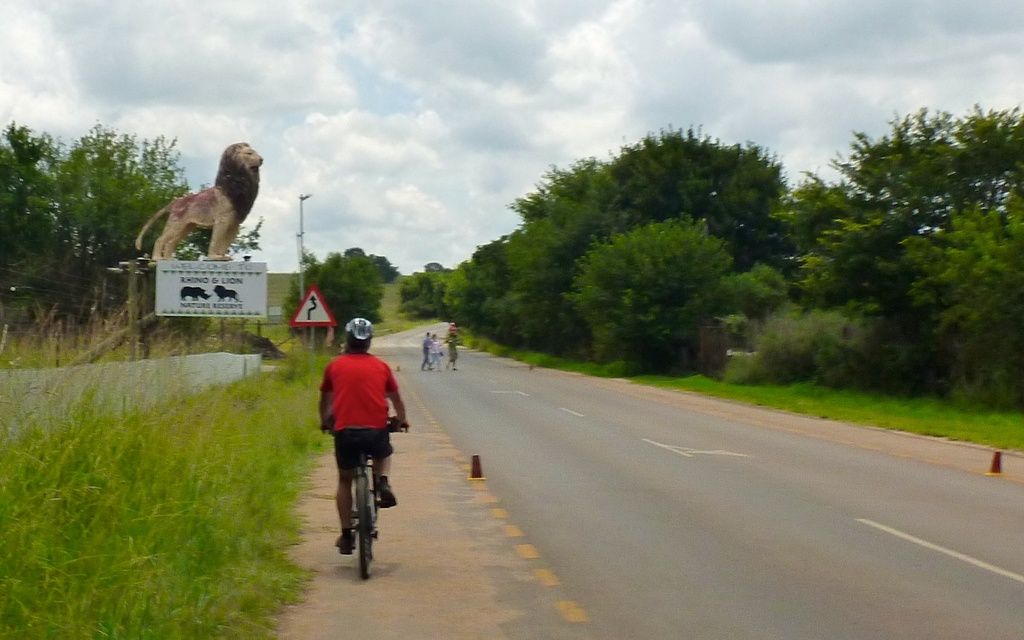Bike_away: (310, 414, 411, 581)
